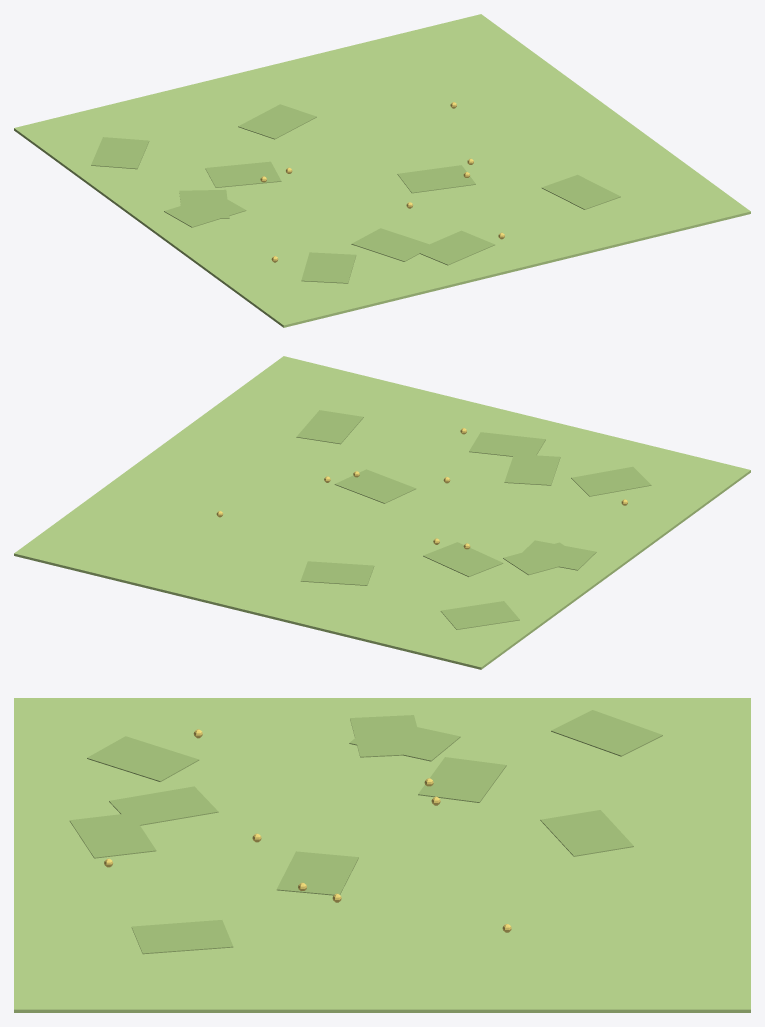
The model's file is SM_Env_GroundTile_01.glb.
3 renders of one model, top to bottom at view 1: azimuth 30°, elevation 25°; view 2: azimuth 150°, elevation 25°; view 3: azimuth 270°, elevation 25°, orthographic. The views are drawn at different scales.
Parts seen in each view (by area): view 1: SM_Ground_Base, SM_Ground_Patch_9, SM_Ground_Patch_4, SM_Ground_Patch_0, SM_Ground_Patch_8, SM_Ground_Patch_7, SM_Ground_Patch_5, SM_Ground_Patch_6, SM_Ground_Patch_3, SM_Ground_Patch_2, SM_Ground_Patch_1; view 2: SM_Ground_Base, SM_Ground_Patch_4, SM_Ground_Patch_7, SM_Ground_Patch_8, SM_Ground_Patch_6, SM_Ground_Patch_0, SM_Ground_Patch_5, SM_Ground_Patch_9, SM_Ground_Patch_3, SM_Ground_Patch_2, SM_Ground_Patch_1; view 3: SM_Ground_Base, SM_Ground_Patch_7, SM_Ground_Patch_8, SM_Ground_Patch_9, SM_Ground_Patch_0, SM_Ground_Patch_4, SM_Ground_Patch_1, SM_Ground_Patch_5, SM_Ground_Patch_6, SM_Ground_Patch_3, SM_Ground_Patch_2.
Part boxes in pixels (x1=…): SM_Ground_Base: x1=14, y1=14, x2=750, y2=327; SM_Ground_Patch_9: x1=541, y1=174, x2=620, y2=209; SM_Ground_Patch_4: x1=238, y1=104, x2=316, y2=139; SM_Ground_Patch_0: x1=351, y1=228, x2=432, y2=261; SM_Ground_Patch_8: x1=301, y1=252, x2=356, y2=283; SM_Ground_Patch_7: x1=91, y1=137, x2=149, y2=169; SM_Ground_Patch_5: x1=205, y1=161, x2=281, y2=187; SM_Ground_Patch_6: x1=397, y1=165, x2=475, y2=193; SM_Ground_Patch_3: x1=416, y1=230, x2=494, y2=265; SM_Ground_Patch_2: x1=164, y1=194, x2=246, y2=227; SM_Ground_Patch_1: x1=179, y1=189, x2=229, y2=219; SM_Ground_Base: x1=14, y1=356, x2=750, y2=669; SM_Ground_Patch_4: x1=300, y1=561, x2=374, y2=585; SM_Ground_Patch_7: x1=440, y1=601, x2=519, y2=629; SM_Ground_Patch_8: x1=571, y1=466, x2=651, y2=496; SM_Ground_Patch_6: x1=334, y1=469, x2=416, y2=503; SM_Ground_Patch_0: x1=504, y1=454, x2=560, y2=485; SM_Ground_Patch_5: x1=423, y1=542, x2=503, y2=576; SM_Ground_Patch_9: x1=296, y1=410, x2=363, y2=444; SM_Ground_Patch_3: x1=469, y1=432, x2=545, y2=457; SM_Ground_Patch_2: x1=517, y1=540, x2=596, y2=570; SM_Ground_Patch_1: x1=503, y1=542, x2=583, y2=575; SM_Ground_Base: x1=14, y1=698, x2=750, y2=1012; SM_Ground_Patch_7: x1=551, y1=710, x2=662, y2=756; SM_Ground_Patch_8: x1=87, y1=736, x2=199, y2=781; SM_Ground_Patch_9: x1=131, y1=920, x2=233, y2=954; SM_Ground_Patch_0: x1=109, y1=786, x2=218, y2=825; SM_Ground_Patch_4: x1=540, y1=810, x2=633, y2=856; SM_Ground_Patch_1: x1=349, y1=719, x2=460, y2=761; SM_Ground_Patch_5: x1=418, y1=757, x2=506, y2=802; SM_Ground_Patch_6: x1=276, y1=851, x2=358, y2=895; SM_Ground_Patch_3: x1=69, y1=813, x2=156, y2=858; SM_Ground_Patch_2: x1=350, y1=715, x2=424, y2=757.
Size of the model in its own units: 8 by 0.13 by 8.
